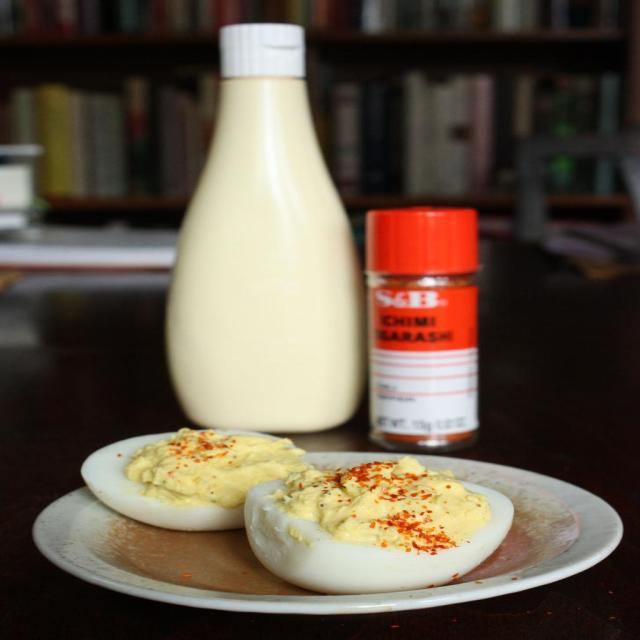Egg: (78, 430, 516, 594)
